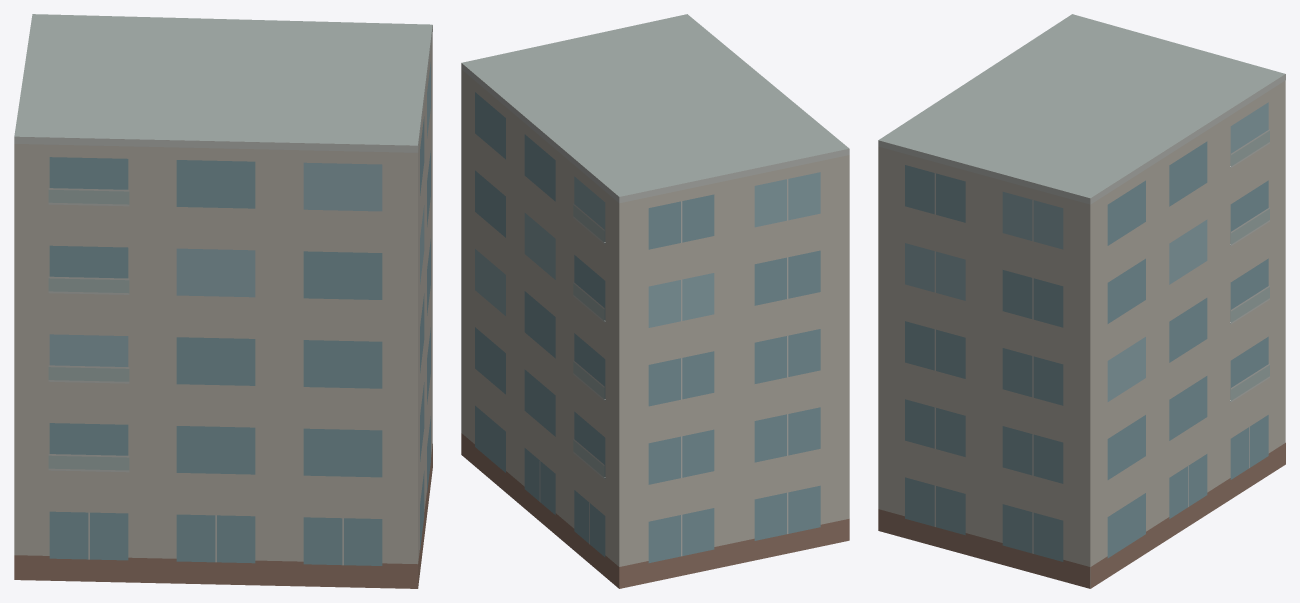
File: survey-upis-32782633.glb
3 views of the same model, side by side, from view 1: azimuth 30°, elevation 25°; view 2: azimuth 150°, elevation 25°; view 3: azimuth 270°, elevation 25° (orthographic). The views are drawn at different scales.
Parts seen in each view (by area): view 1: survey-upis-32782633.tmp; view 2: survey-upis-32782633.tmp; view 3: survey-upis-32782633.tmp.
Boxes of the visible parts, x1,y1,x2,y2 form: survey-upis-32782633.tmp: (14,14,432,588); survey-upis-32782633.tmp: (461,14,849,588); survey-upis-32782633.tmp: (878,14,1285,588).
Bounding box in the file's own units: 15.29 × 15.1 × 14.29.
